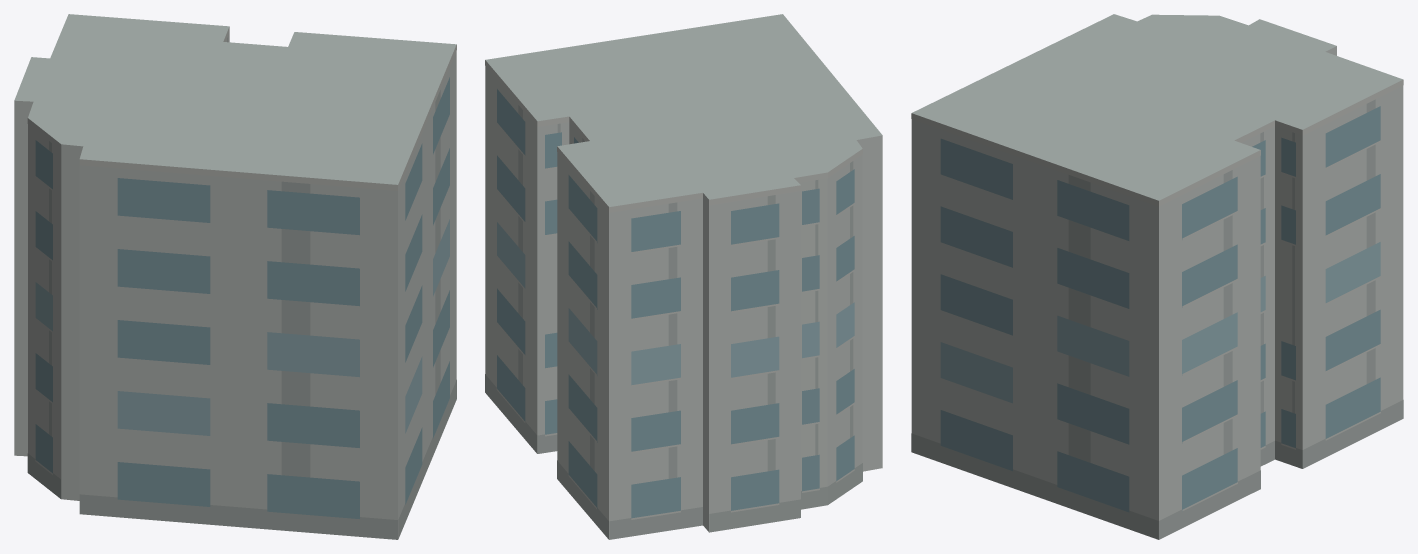
File: survey-upis-32884731.glb
3 views of the same model, side by side, from view 1: azimuth 30°, elevation 25°; view 2: azimuth 150°, elevation 25°; view 3: azimuth 270°, elevation 25° (orthographic). The views are drawn at different scales.
Visible parts, largest first — view 1: survey-upis-32884731.tmp; view 2: survey-upis-32884731.tmp; view 3: survey-upis-32884731.tmp.
Part boxes in pixels (x1,y1,x2,y2): survey-upis-32884731.tmp: [14, 14, 456, 539]; survey-upis-32884731.tmp: [485, 14, 882, 539]; survey-upis-32884731.tmp: [911, 14, 1403, 539].
Size of the model in its own units: 16.66 by 14.1 by 18.55.
